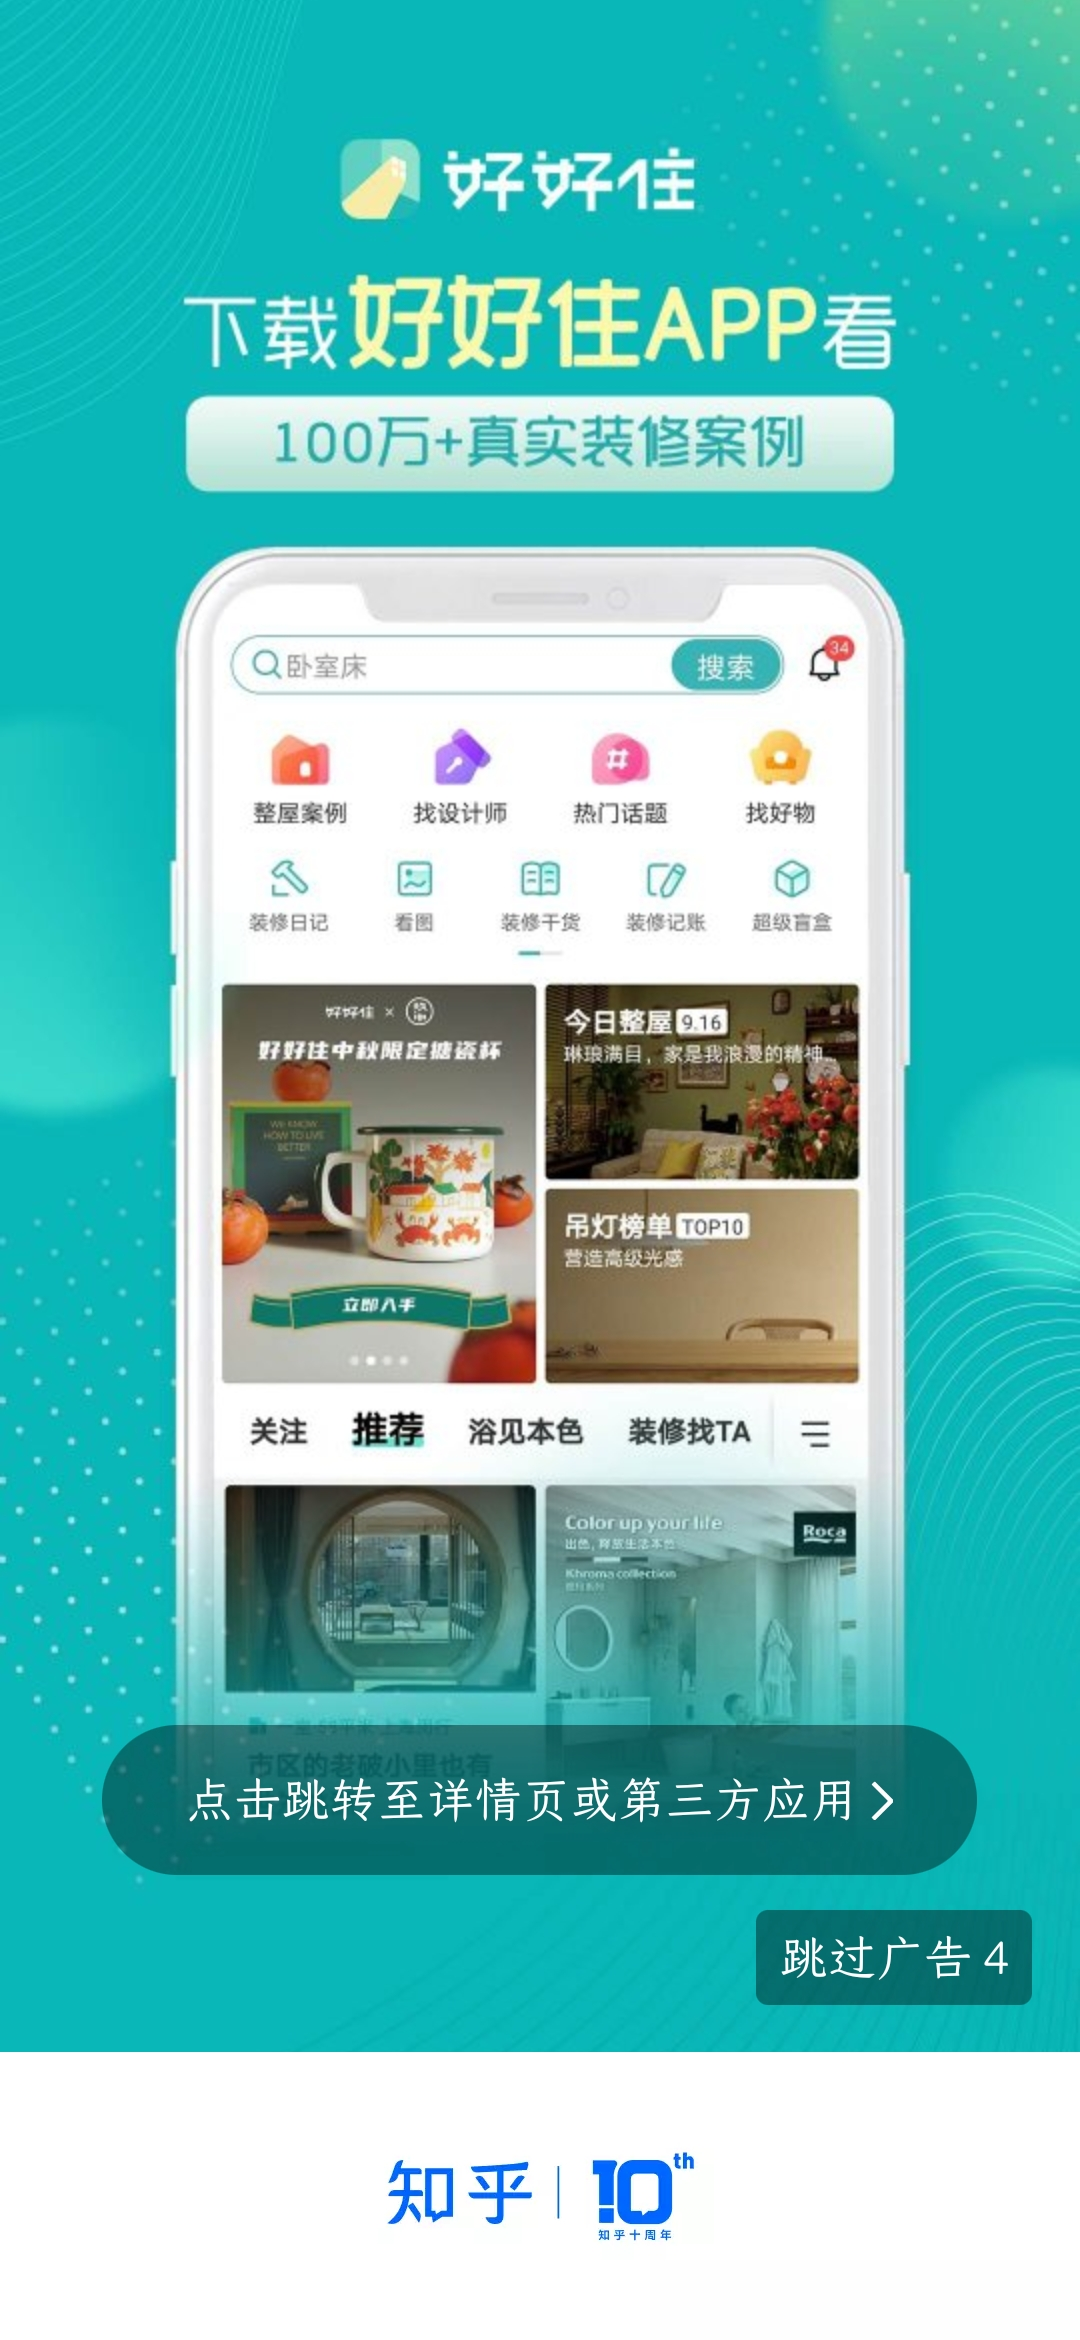skip: (756, 1909, 1026, 2013)
